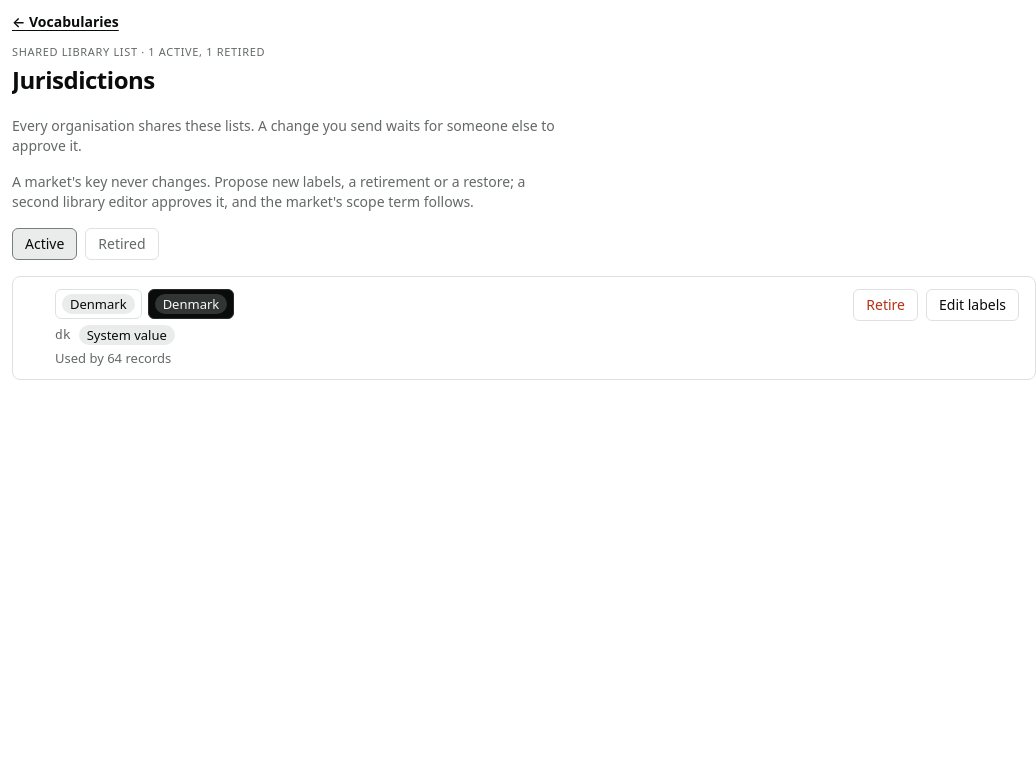
it: the jurisdictions on the console › proposes a label per content language, keeping the key, and says it is waiting for review
This screenshot has width=1036, height=780.
Click the button "Edit labels" at (972,305), box [926,289,1019,321]
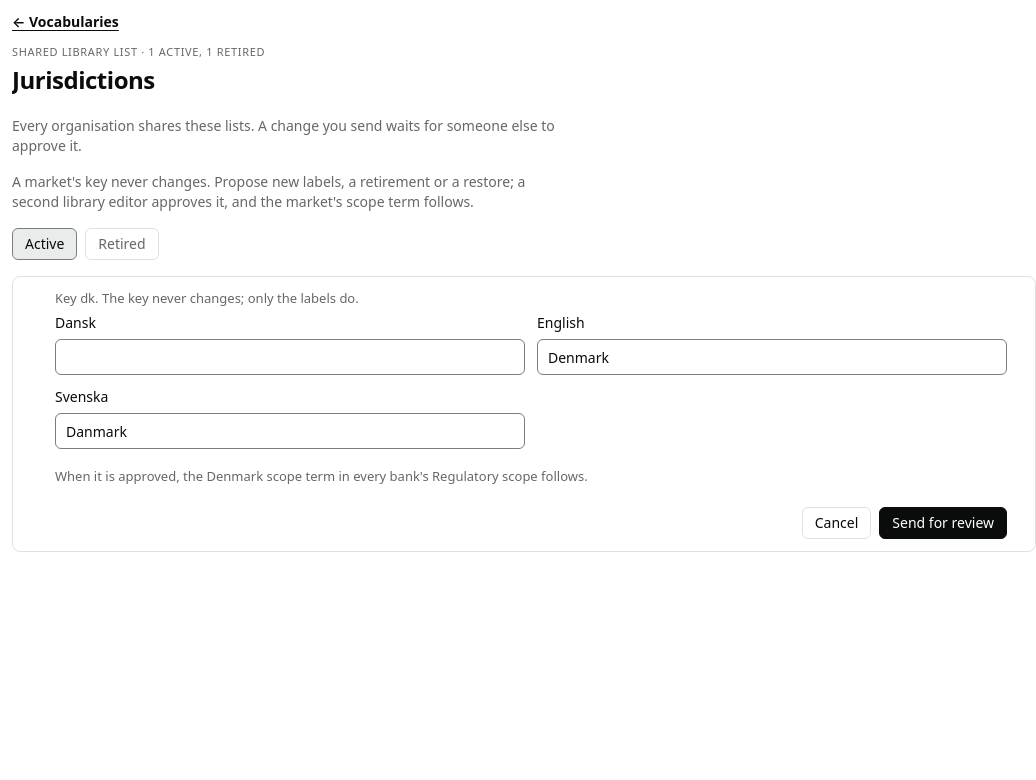
Check: the field labelled "English" holds "Denmark", box [537,339,1007,375]
Check: the field labelled "Svenska" holds "Danmark", box [55,413,525,449]
Check: the field labelled "Dansk" is empty
Type "Kongeriget Danmark" into the field labelled "Dansk" at (290,357), box [55,339,525,375]
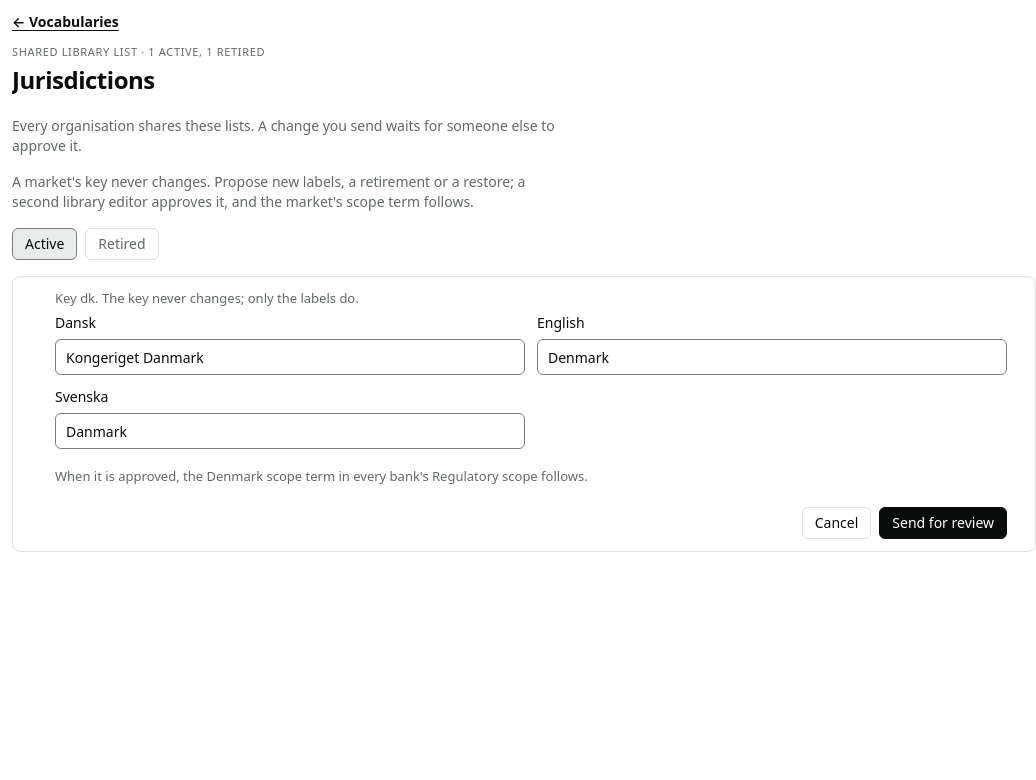
Click the button "Send for review" at (943,523), box [879,507,1007,539]
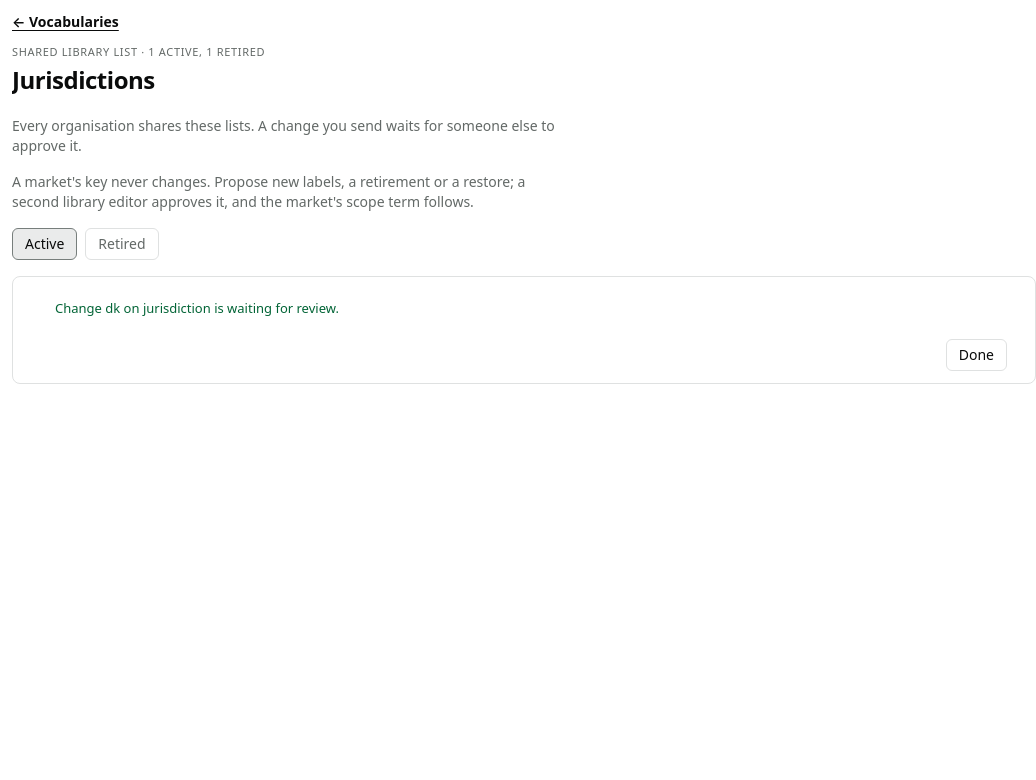
Check: the text "Change dk on jurisdiction is waiting for review." is shown, box [55,299,339,317]
